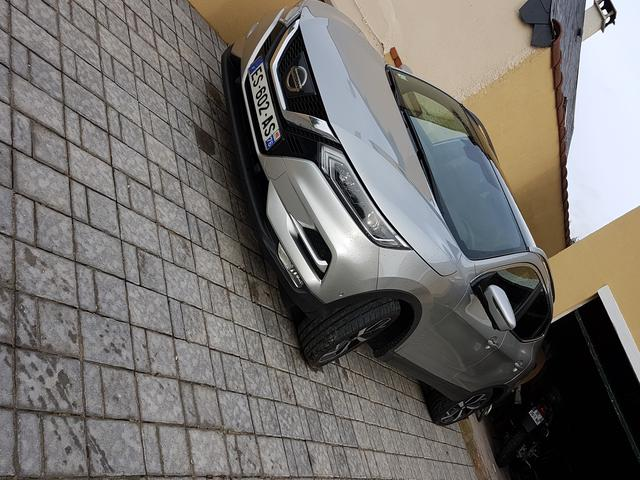Quashquai: (236, 49, 292, 160)
